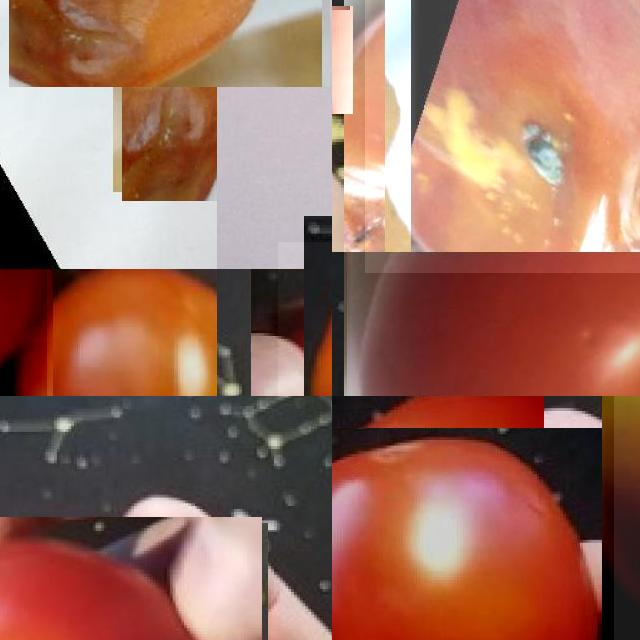0: (0, 269, 217, 396)
1: (65, 0, 273, 144)
Fresh Tomato: (332, 396, 581, 640), (350, 252, 640, 396), (0, 520, 265, 640)
Rotten Tomato: (364, 0, 640, 272)
